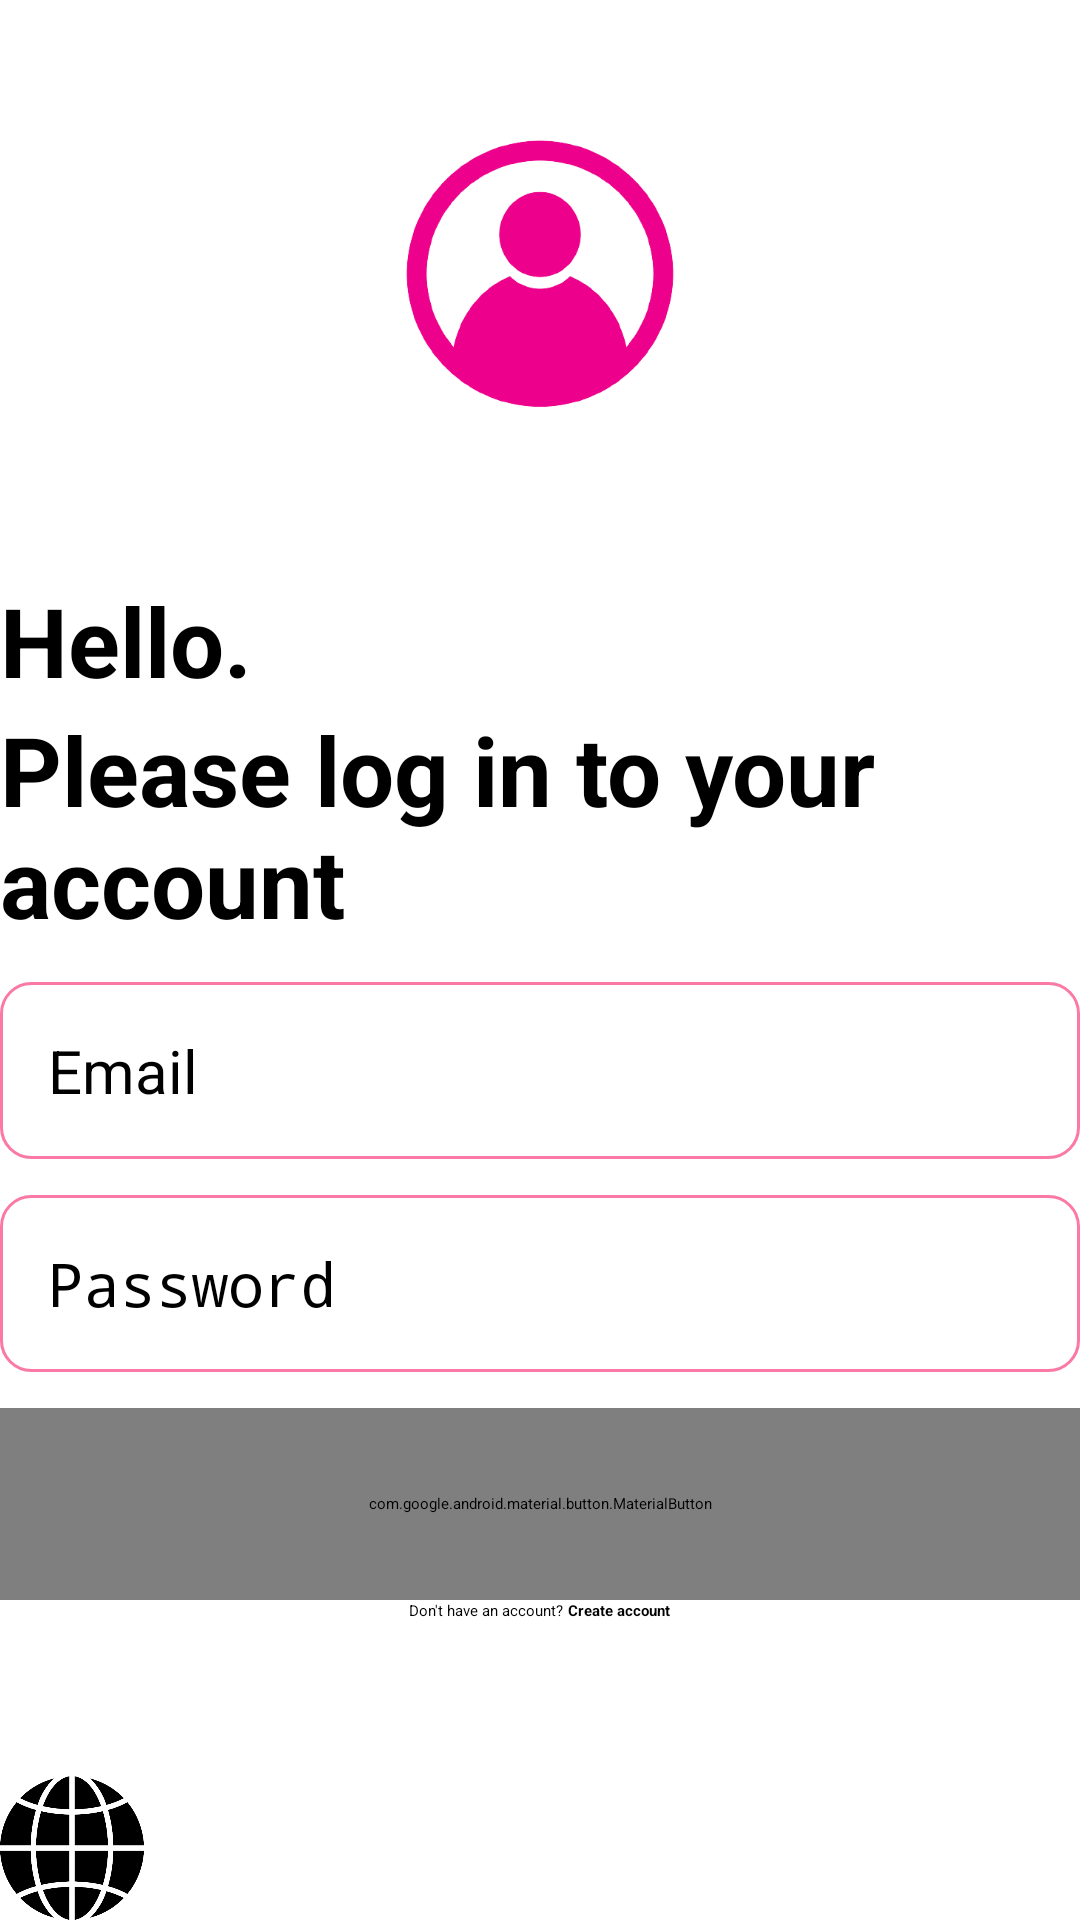

Named icons in this screenshot (1080x1920) and their centers, point (x, y):
language: point (72, 1848)
Login: point (540, 273)
